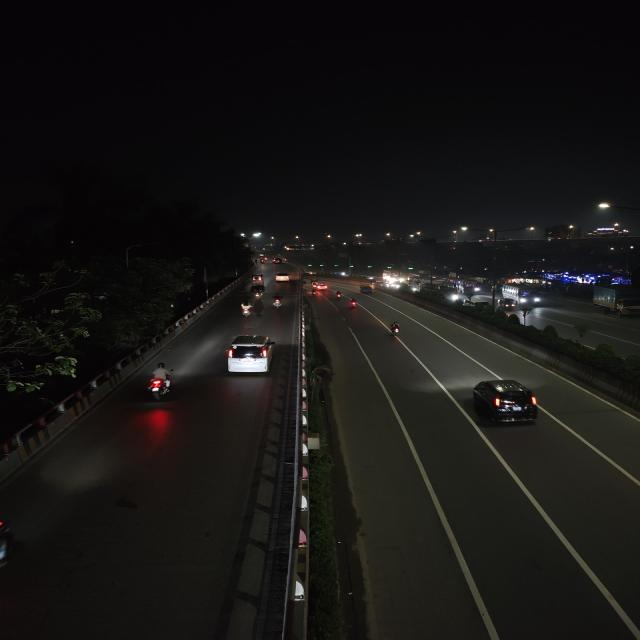bus: (511, 286, 541, 308), (434, 281, 456, 301), (458, 278, 480, 294), (382, 272, 401, 282)
car: (479, 372, 535, 428), (218, 330, 272, 386), (274, 269, 292, 288)
cng: (497, 296, 515, 312), (250, 274, 263, 287)
motorcycle: (143, 362, 176, 402), (385, 319, 406, 336), (236, 299, 254, 318), (272, 291, 285, 312), (254, 288, 266, 302), (350, 296, 358, 311), (330, 290, 343, 299), (309, 286, 316, 296)
pickup_van: (357, 284, 376, 294)
truck: (590, 284, 640, 318)
